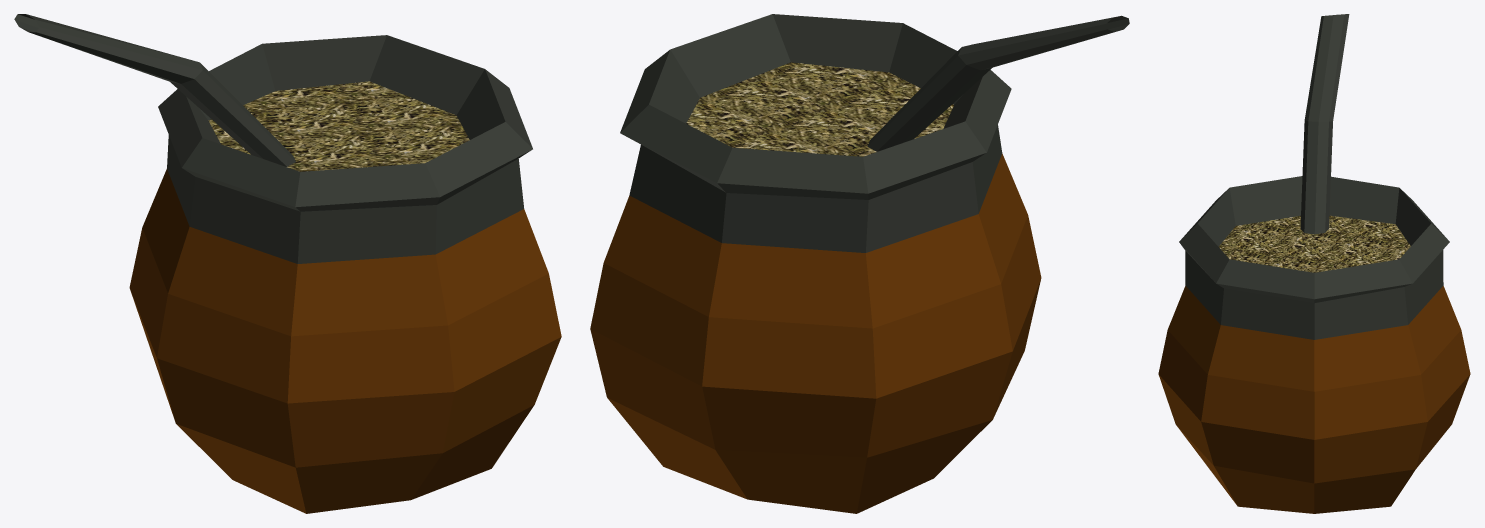
The model's file is mate_argentino_drink.glb.
The picture shows the model from 3 angles, left to right: view 1: azimuth 30°, elevation 25°; view 2: azimuth 150°, elevation 25°; view 3: azimuth 270°, elevation 25°; orthographic projection. The views are drawn at different scales.
Visible parts, largest first — view 1: Cube_0; view 2: Cube_0; view 3: Cube_0.
Part boxes in pixels (x1,y1,x2,y2): Cube_0: (14,14,561,513); Cube_0: (590,14,1129,513); Cube_0: (1158,14,1470,513).
Size of the model in its own units: 3.01 by 2.85 by 2.27.
3 materials, 1 textured.
